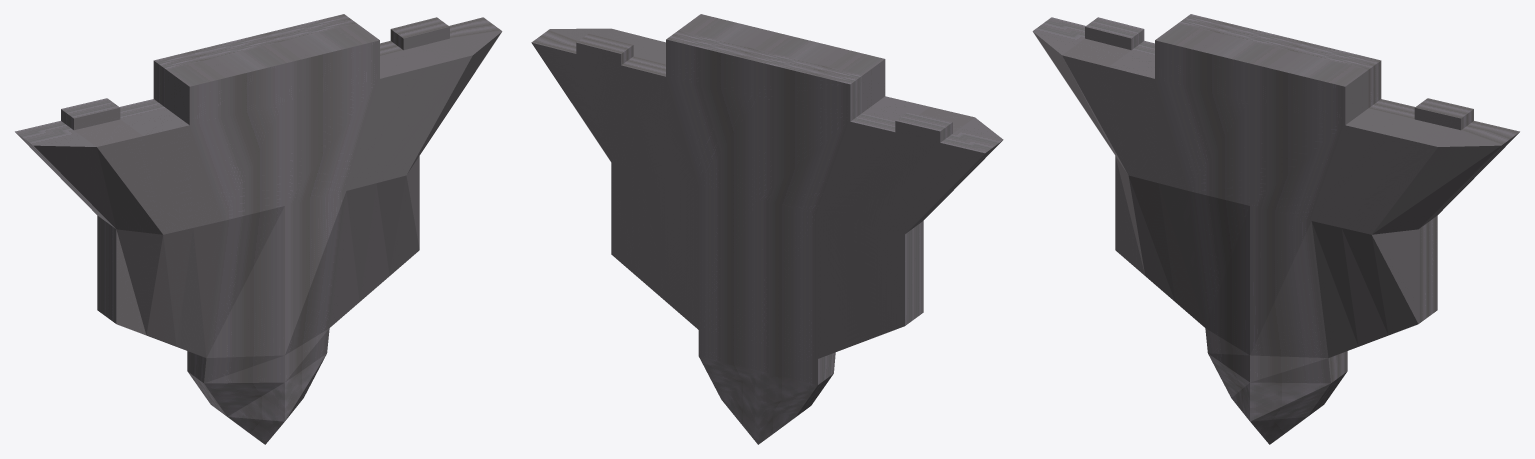
File: spaceship.gltf
The picture shows the model from 3 angles, left to right: view 1: azimuth 30°, elevation 25°; view 2: azimuth 150°, elevation 25°; view 3: azimuth 330°, elevation 25°; orthographic projection. The views are drawn at different scales.
Visible parts, largest first — view 1: spaceship; view 2: spaceship; view 3: spaceship.
Boxes of the visible parts, x1,y1,x2,y2 form: spaceship: [15, 14, 502, 444]; spaceship: [531, 14, 1003, 444]; spaceship: [1032, 14, 1519, 444].
Bounding box in the file's own units: 12.29 × 9.91 × 1.63.
Materials: 1 (1 with a texture image).
